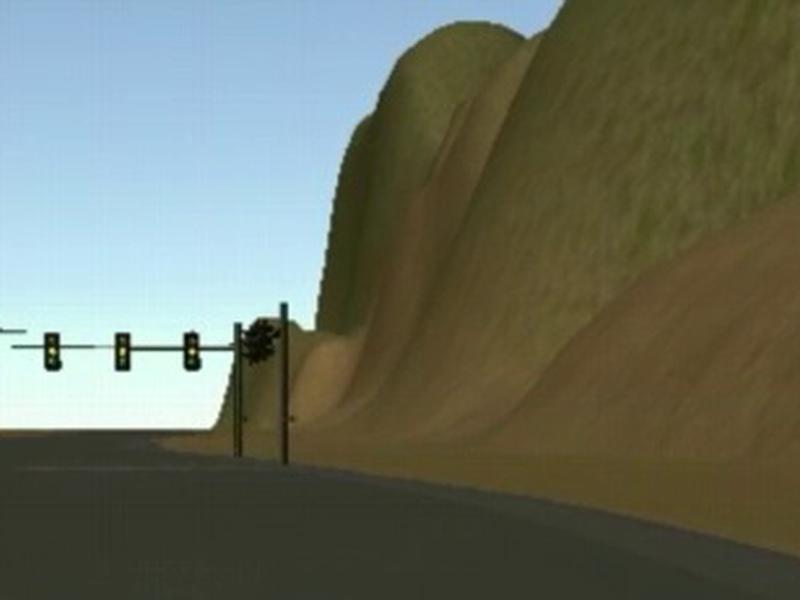Yellow: (43, 332, 63, 372), (114, 331, 131, 371), (184, 332, 201, 371)
